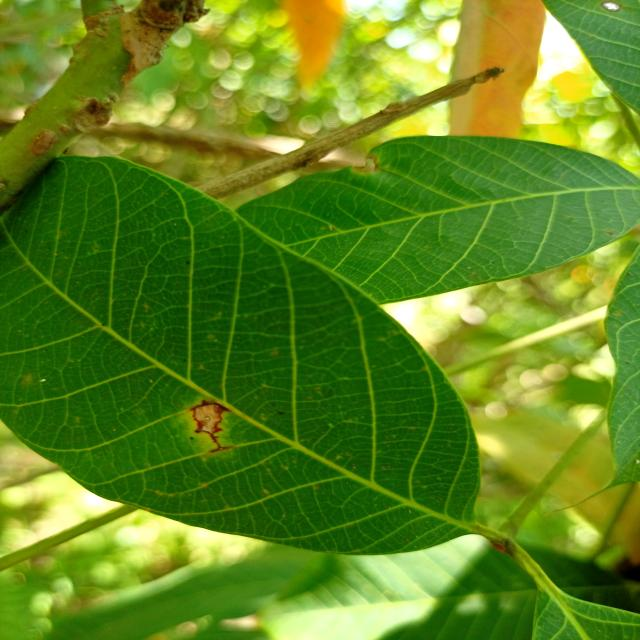Corynespora: (188, 399, 232, 453)
